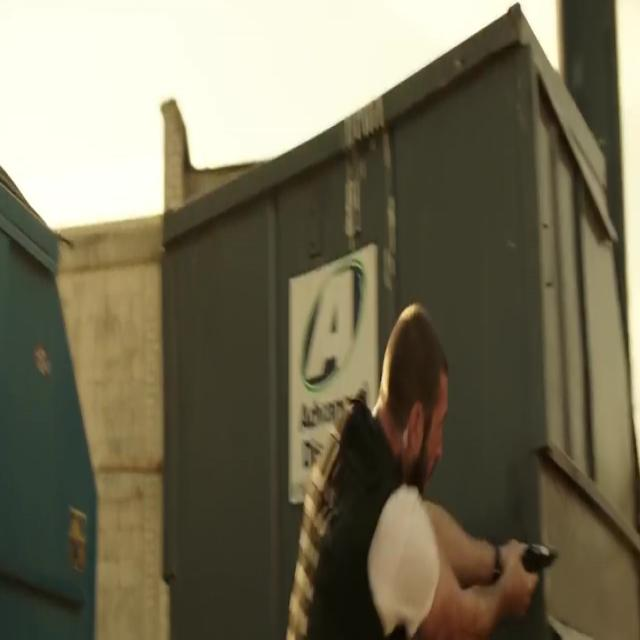Weapon: (504, 530, 576, 586)
